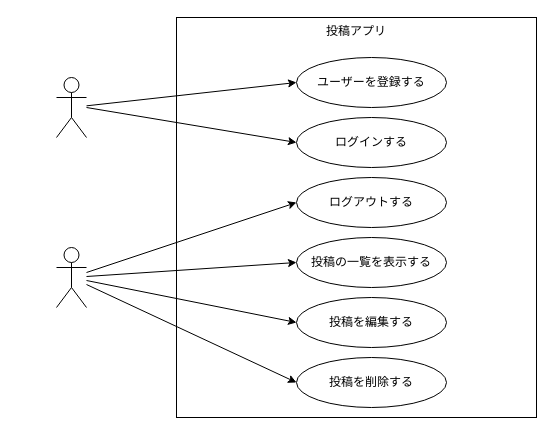
Some shapes in this 554 by 435 pixel diagram are drawn without their labels. The centre of each missing label's shape, as x and y in pixels:
"ログイン前ユーザー" goes at (x=71, y=107).
"ログイン済ユーザー" goes at (x=71, y=277).
